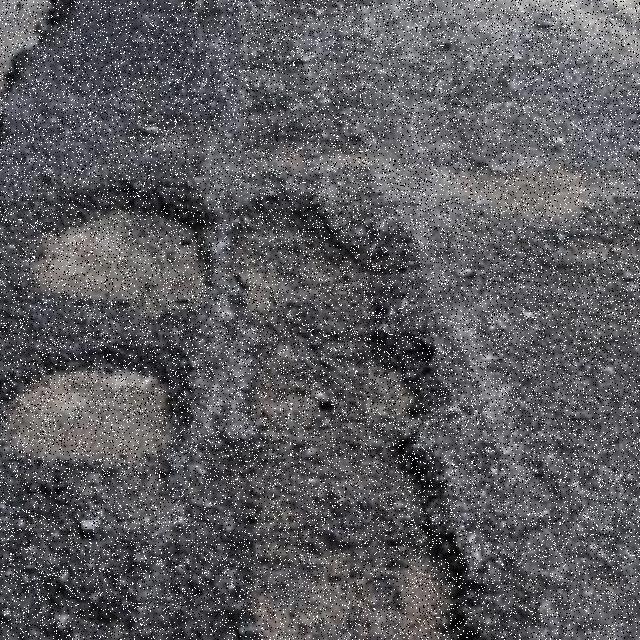pothole: (247, 202, 474, 640), (3, 354, 188, 466), (30, 191, 209, 306)
